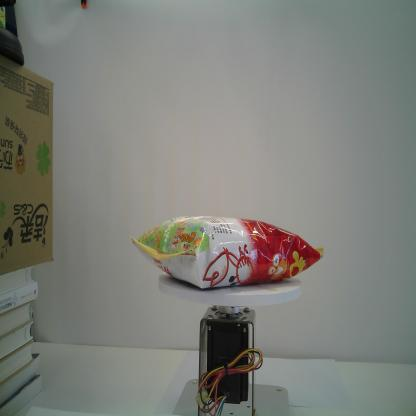Puffed Food: (128, 215, 328, 292)
